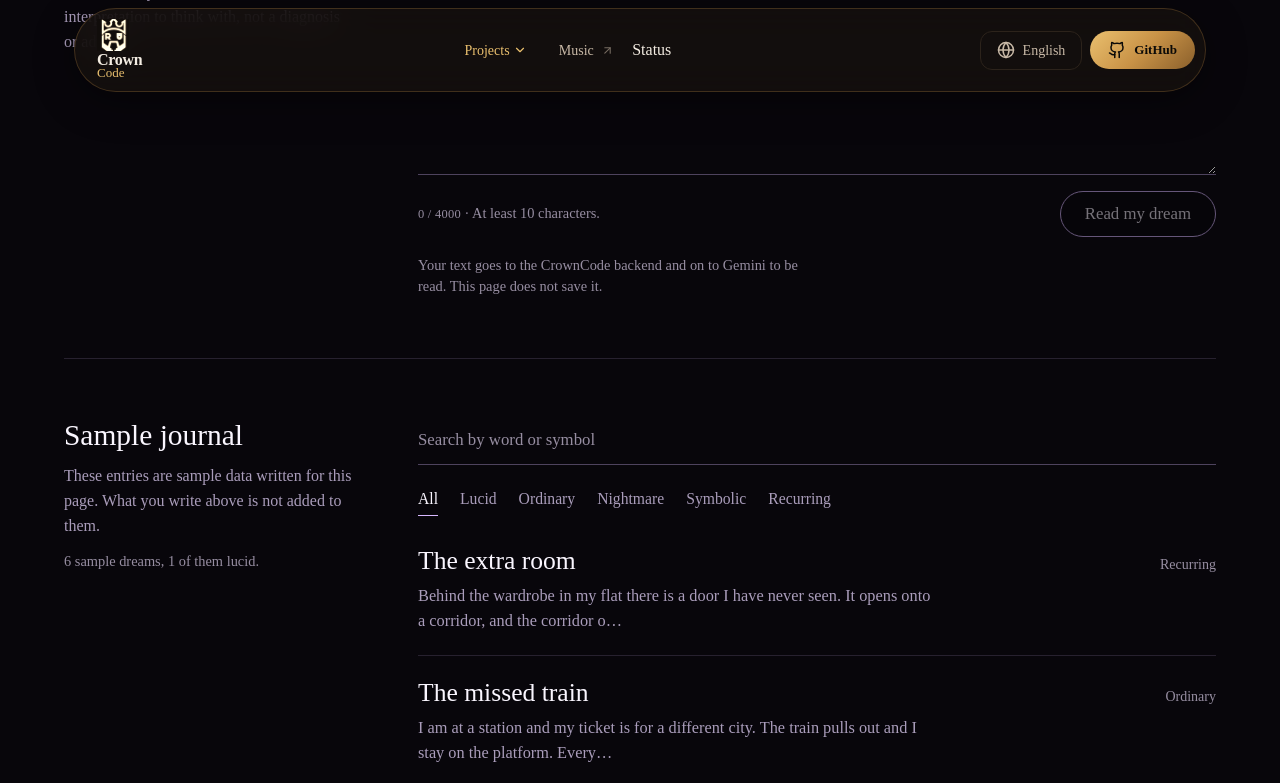
Test case: Crown Dreams page › sample journal › searches titles, text and symbols
(page scrolled)
Type "tooth" into the search field named "Search the sample dreams". click: point(817, 442)
box: [418,419,1216,465]
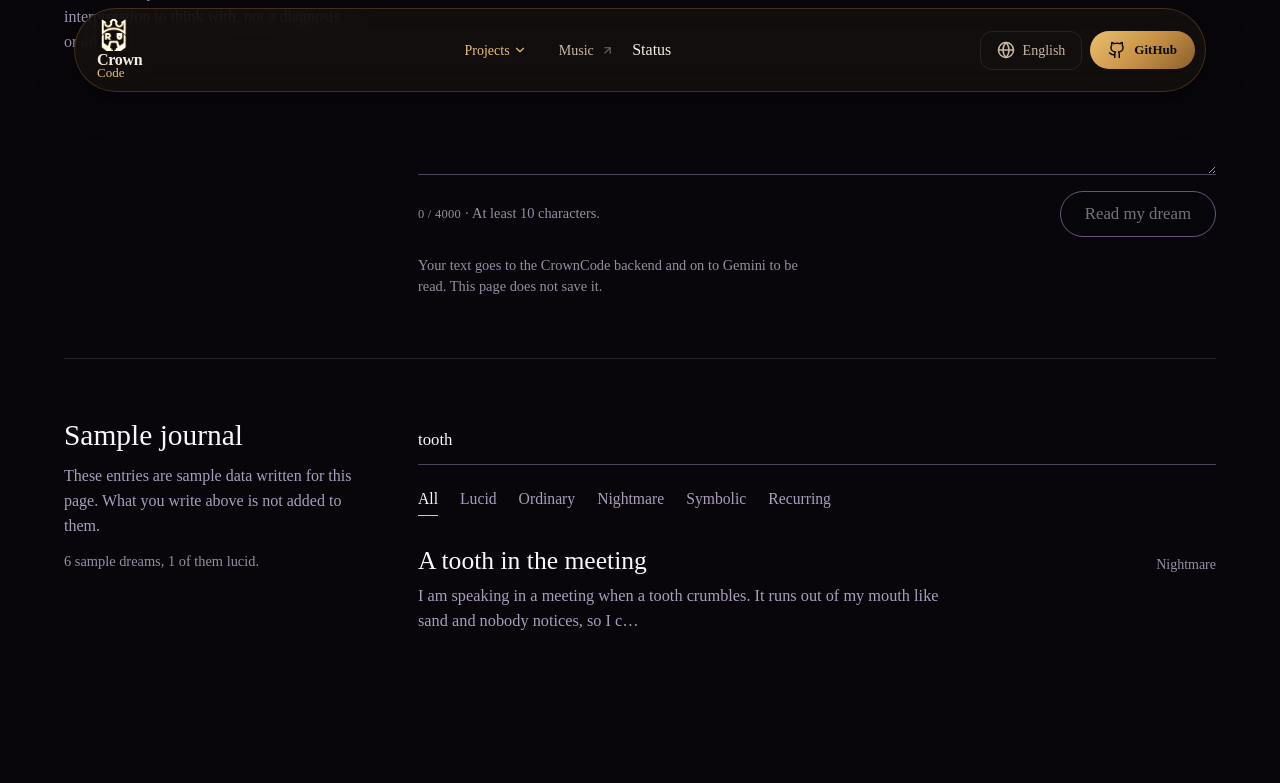
Expected: the button "A tooth in the meeting Nightmare" is shown, [418,524,1216,582]
Result: the button "The missed train" is gone
Replace the text in the search field named "Search the sample dreams" with "nothing like this". click: point(817, 442)
box: [418,419,1216,465]
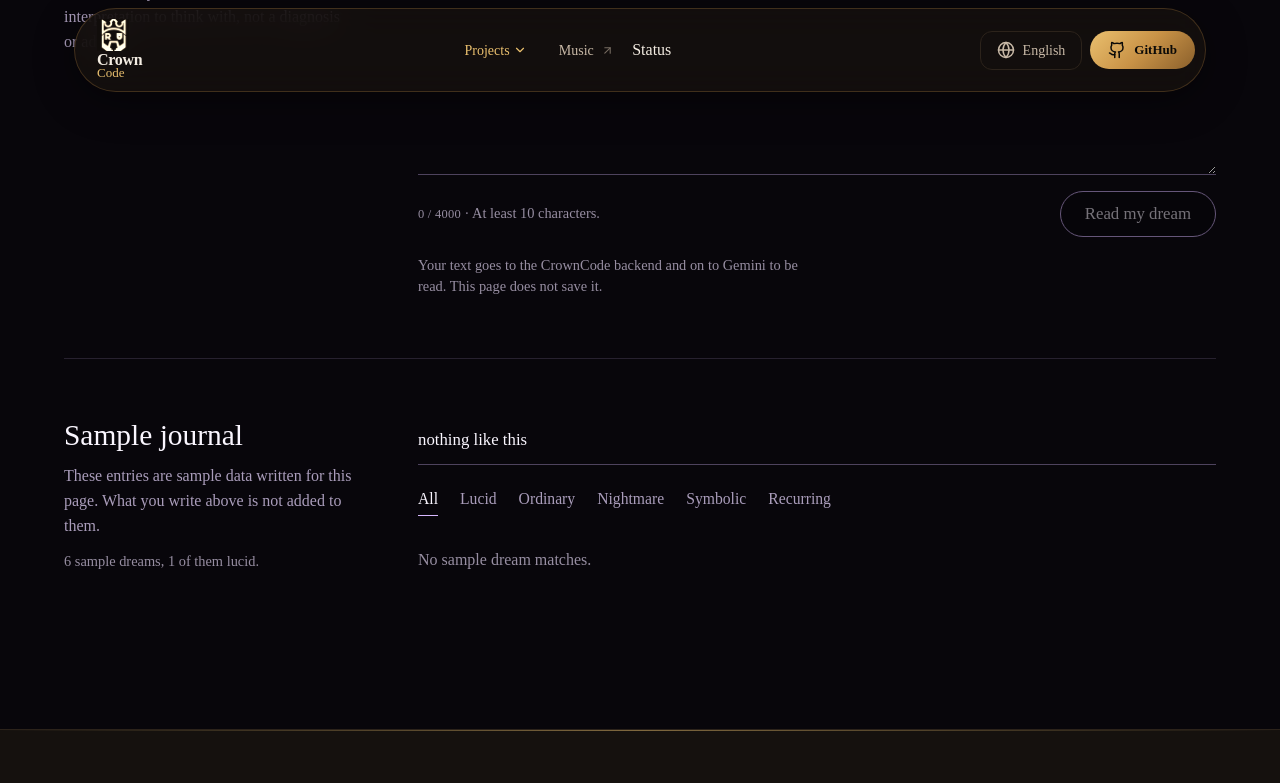
Result: the text "No sample dream matches." is shown at [418,551,591,568]
